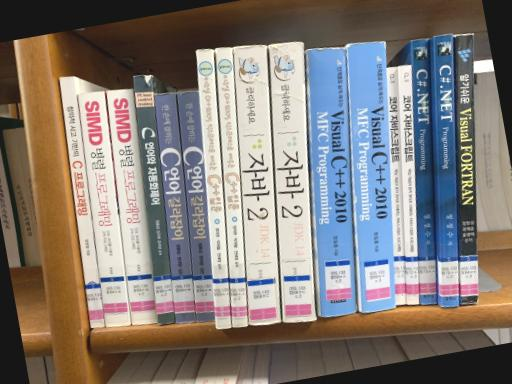book-spine: (234, 45, 281, 325), (269, 42, 316, 321), (347, 41, 395, 313), (308, 47, 356, 316), (78, 91, 130, 327), (106, 88, 157, 324), (59, 75, 106, 327), (133, 75, 175, 324), (197, 49, 231, 328), (154, 92, 195, 323), (217, 47, 248, 326), (178, 90, 215, 321), (412, 38, 438, 304), (434, 34, 458, 306), (455, 34, 478, 304), (399, 64, 419, 305), (387, 67, 407, 304)
